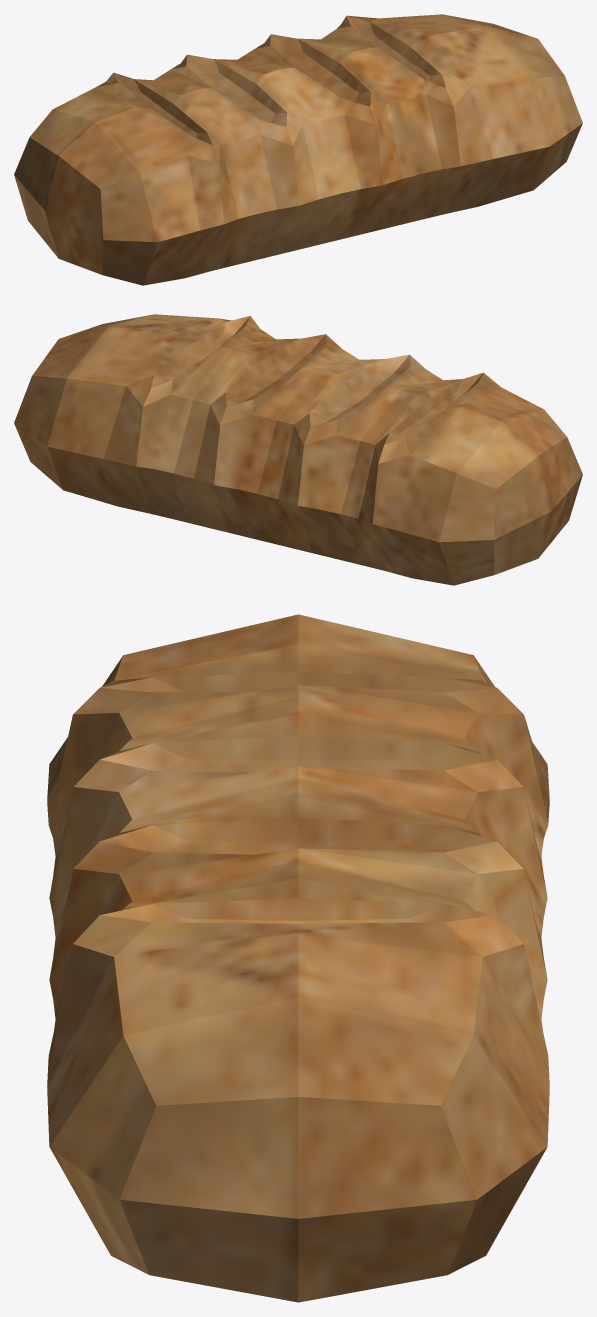
Rendered from bread.fbx.
The picture shows the model from 3 angles, top to bottom: view 1: azimuth 30°, elevation 25°; view 2: azimuth 150°, elevation 25°; view 3: azimuth 270°, elevation 25°; orthographic projection. The views are drawn at different scales.
Parts seen in each view (by area): view 1: bread; view 2: bread; view 3: bread.
Boxes of the visible parts, x1=… form: bread: x1=14, y1=14, x2=582, y2=285; bread: x1=14, y1=314, x2=582, y2=585; bread: x1=47, y1=614, x2=549, y2=1302.
Bounding box in the file's own units: 3.49 × 1.05 × 1.48.
